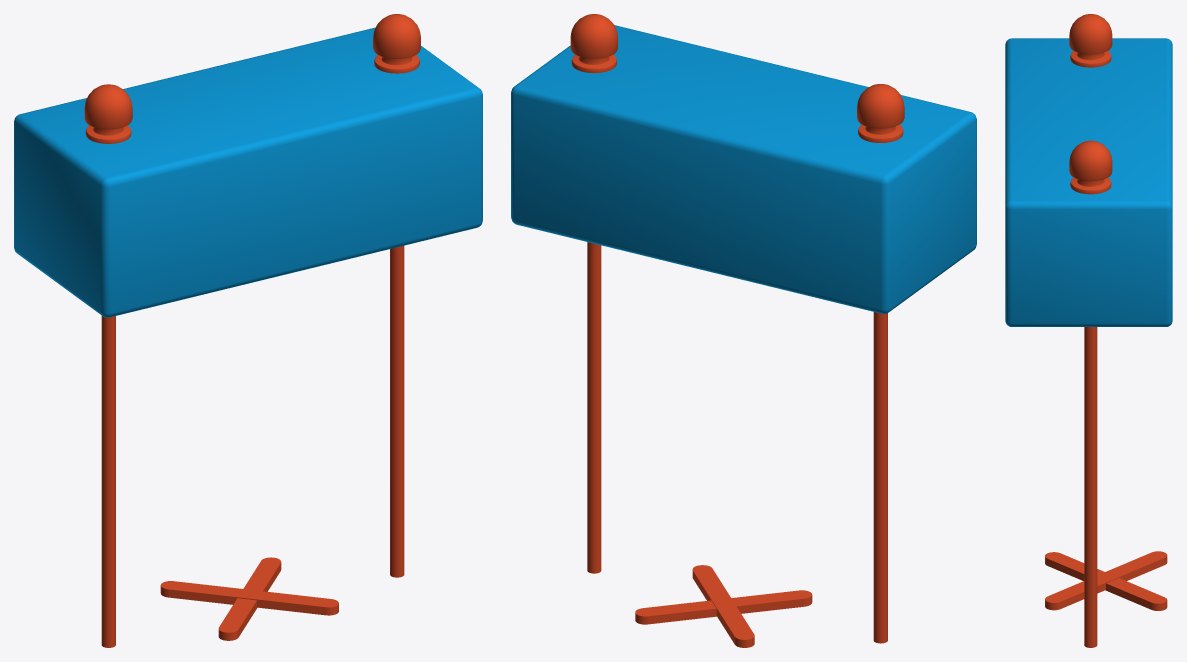
Rendered from punisher_MESH.fbx.
3 views of the same model, side by side, from view 1: azimuth 30°, elevation 25°; view 2: azimuth 150°, elevation 25°; view 3: azimuth 270°, elevation 25° (orthographic). The views are drawn at different scales.
Visible parts, largest first — view 1: ChamferBox001, Cylinder005, Cylinder004, Cylinder006, Sphere003, Sphere002, Cylinder007; view 2: ChamferBox001, Cylinder005, Cylinder004, Cylinder007, Sphere002, Sphere003, Cylinder006; view 3: ChamferBox001, Cylinder004, Sphere002, Sphere003, Cylinder006, Cylinder007.
Boxes of the visible parts, x1,y1,x2,y2 form: ChamferBox001: (14, 27, 482, 317); Cylinder005: (101, 316, 115, 647); Cylinder004: (390, 245, 404, 577); Cylinder006: (160, 581, 338, 615); Sphere003: (84, 84, 132, 143); Sphere002: (373, 14, 420, 73); Cylinder007: (218, 557, 281, 640); ChamferBox001: (511, 25, 976, 314); Cylinder005: (873, 312, 887, 643); Cylinder004: (587, 242, 601, 573); Cylinder007: (635, 590, 812, 624); Sphere002: (570, 14, 617, 73); Sphere003: (857, 84, 904, 142); Cylinder006: (692, 565, 754, 647); ChamferBox001: (1005, 38, 1172, 326); Cylinder004: (1084, 327, 1097, 647); Sphere002: (1069, 140, 1112, 194); Sphere003: (1069, 14, 1112, 67); Cylinder006: (1045, 551, 1167, 610); Cylinder007: (1045, 552, 1167, 610).
Size of the model in its own units: 103 by 145 by 43.75.
